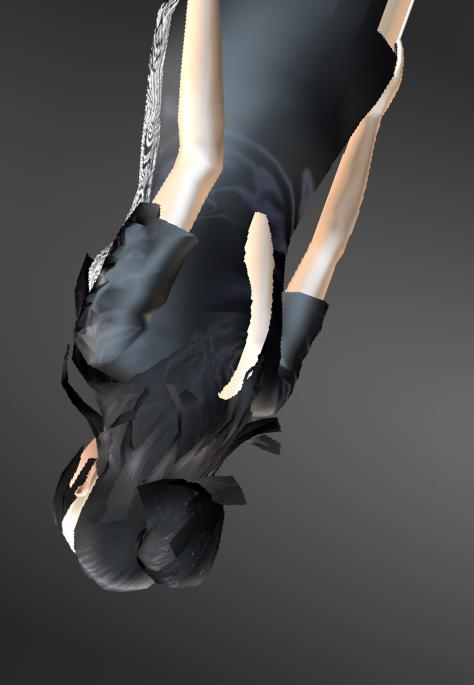clip: (239, 318, 266, 385)
